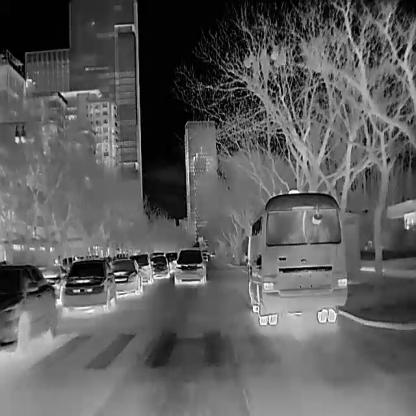bus: (246, 188, 346, 326)
car: (0, 263, 58, 352), (61, 258, 115, 314), (174, 249, 206, 285), (111, 257, 141, 295), (131, 252, 152, 284), (152, 254, 168, 276)
